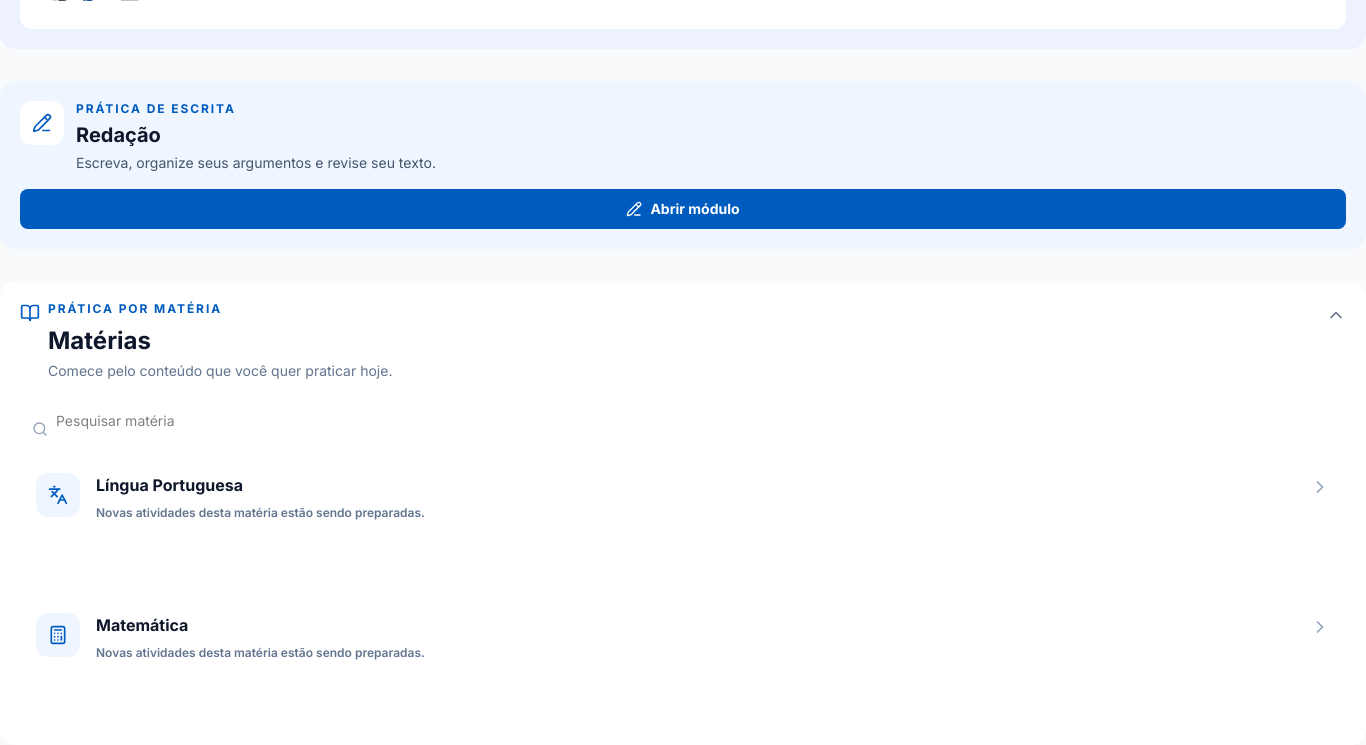
Test case: StudyCenterPage › filtra as matérias sem misturar outros conteúdos
(page scrolled)
Type "mat" into the field labelled "Pesquisar matéria".
click(683, 421); type("mat")  # box [20,401,1346,441]
(page scrolled)
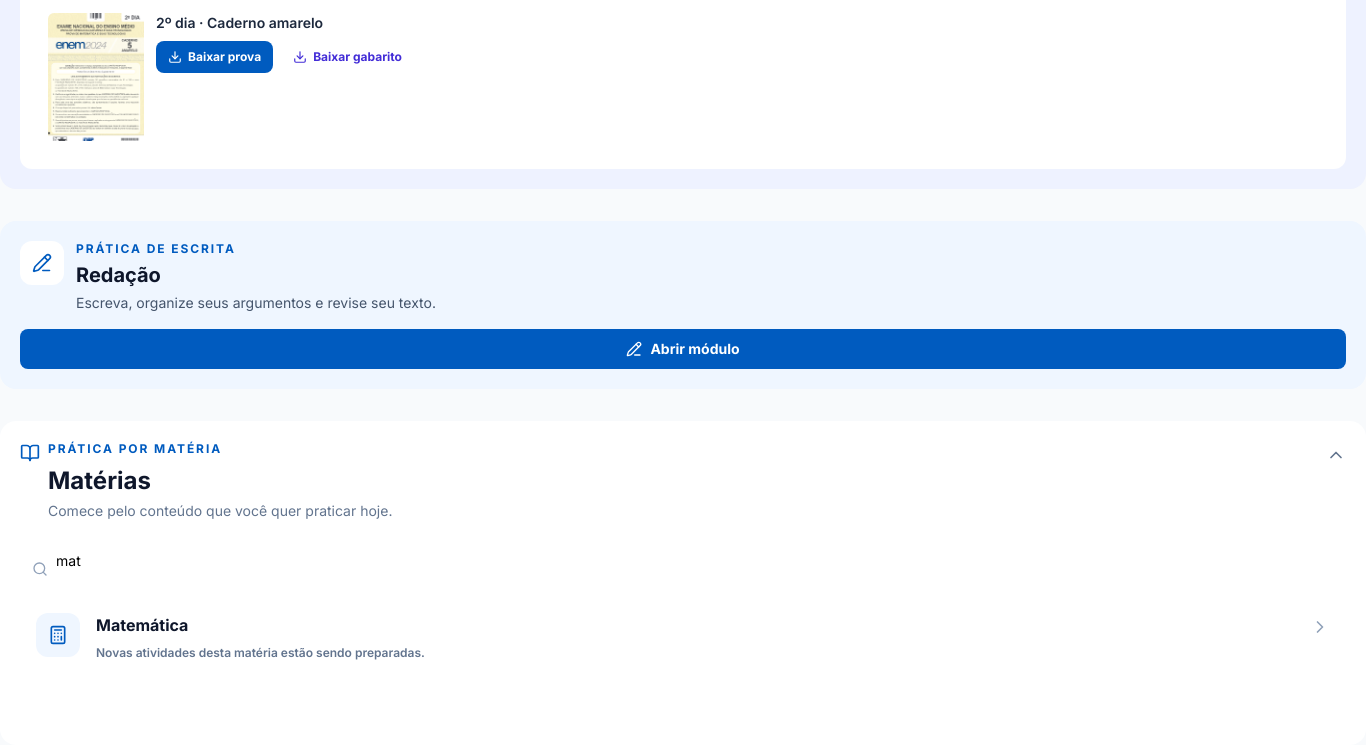
Expected: the link "Língua Portuguesa" is gone
